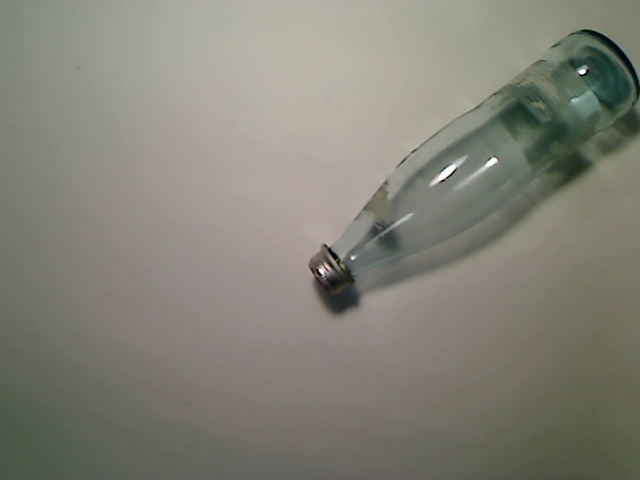bottle: (307, 28, 640, 296)
